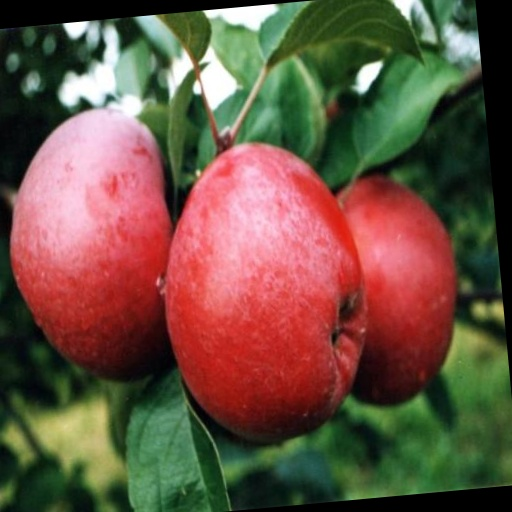fruit: (166, 143, 365, 441), (11, 109, 171, 379), (340, 176, 456, 403)
